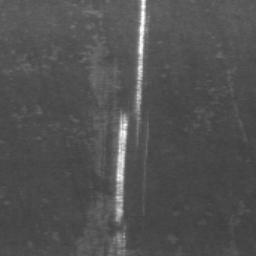Bright scratch: (116, 109, 129, 222), (136, 0, 146, 140)
